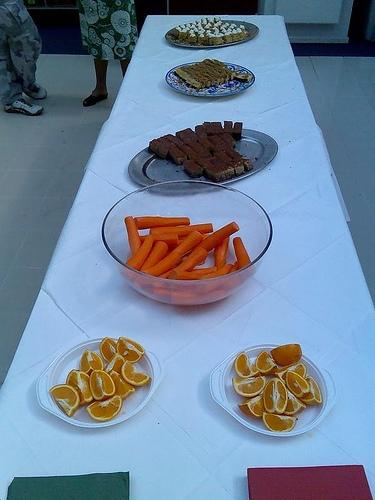carrot: (158, 246, 208, 278), (194, 221, 240, 252), (141, 250, 180, 277), (166, 229, 204, 256), (126, 234, 154, 270), (150, 223, 214, 238), (170, 290, 226, 306), (140, 241, 168, 272), (134, 216, 190, 230), (124, 216, 142, 257), (140, 231, 180, 248), (232, 237, 252, 269), (198, 264, 233, 280), (214, 236, 230, 270), (168, 270, 201, 280), (152, 286, 179, 296), (228, 261, 240, 273)
orange: (85, 394, 122, 422), (49, 384, 80, 417), (66, 370, 94, 406), (263, 378, 288, 415), (90, 370, 116, 402), (120, 360, 152, 386), (262, 412, 298, 434), (274, 362, 307, 386), (116, 337, 146, 363), (110, 370, 136, 400), (270, 344, 303, 366), (283, 386, 307, 416), (298, 375, 322, 405), (235, 351, 261, 378), (232, 376, 266, 396), (286, 370, 310, 398), (238, 394, 266, 418), (255, 350, 280, 375), (80, 350, 104, 376), (104, 352, 125, 376), (99, 336, 118, 362)
